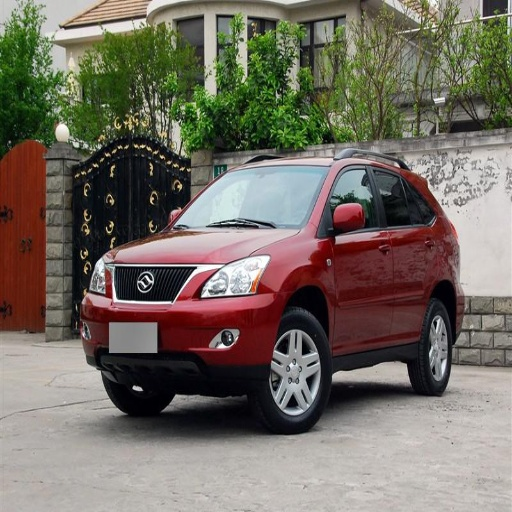back_glass: (373, 162, 438, 339)
back_right_light: (82, 263, 285, 375)
front_bumper: (172, 165, 329, 229)
front_glass: (323, 162, 393, 349)
front_left_door: (198, 254, 268, 299)
front_right_door: (88, 260, 112, 294)
front_right_light: (108, 228, 299, 263)
trunk: (256, 307, 331, 432), (410, 299, 452, 395), (104, 375, 170, 413)
